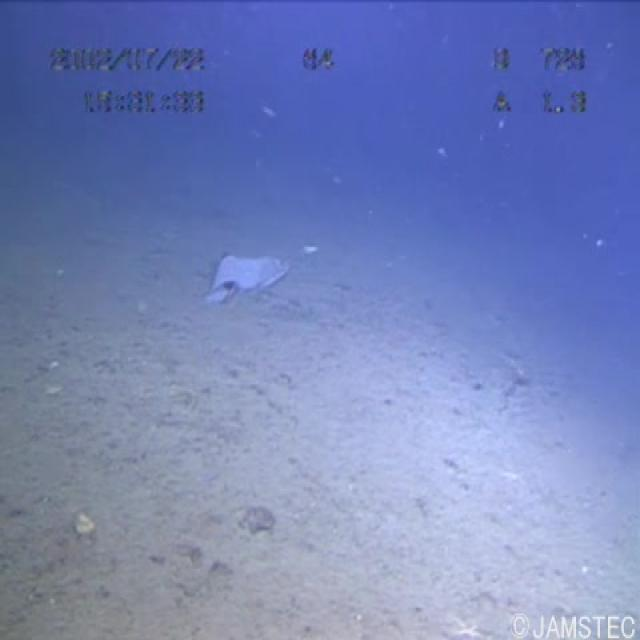plastic: (187, 237, 331, 311)
